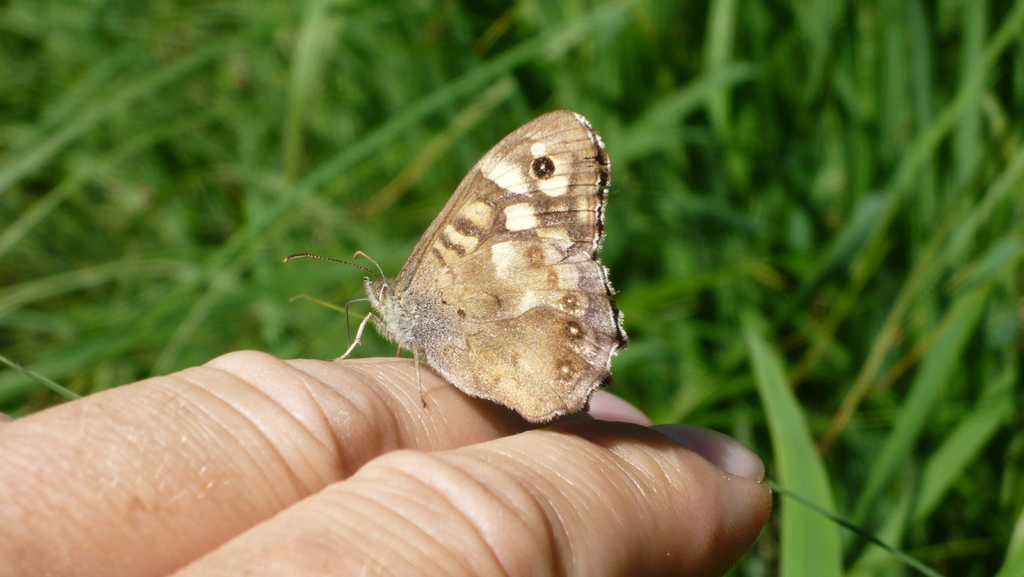Butterfly: (298, 89, 613, 425)
